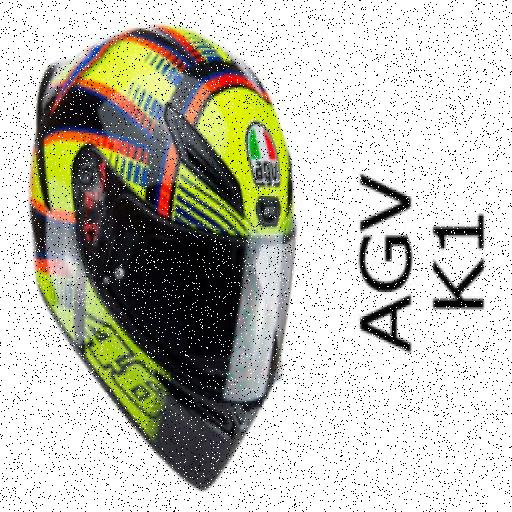Helmet: (31, 27, 294, 487)
